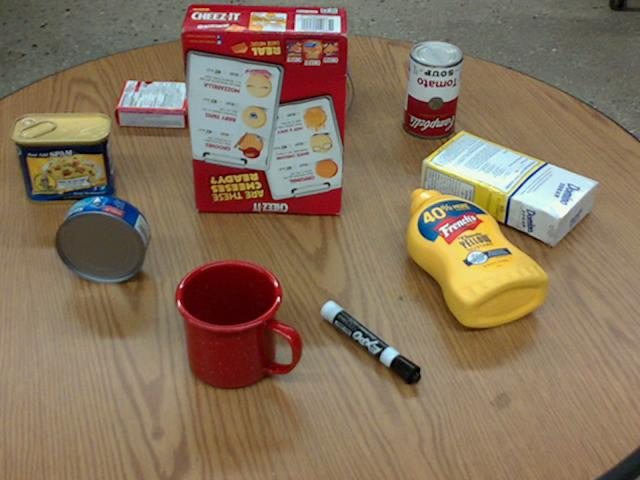cracker_box: (180, 3, 348, 211)
gelatin_box: (115, 81, 192, 128)
large_marker: (319, 300, 419, 383)
master_chef_can: (265, 7, 352, 129)
mug: (174, 259, 301, 389)
mustard_bottle: (405, 188, 547, 326)
potted_meat_can: (10, 113, 115, 205)
sugar_box: (418, 133, 597, 242)
tomato_soup_can: (400, 39, 460, 136)
tuna_fish_can: (55, 194, 149, 283)
